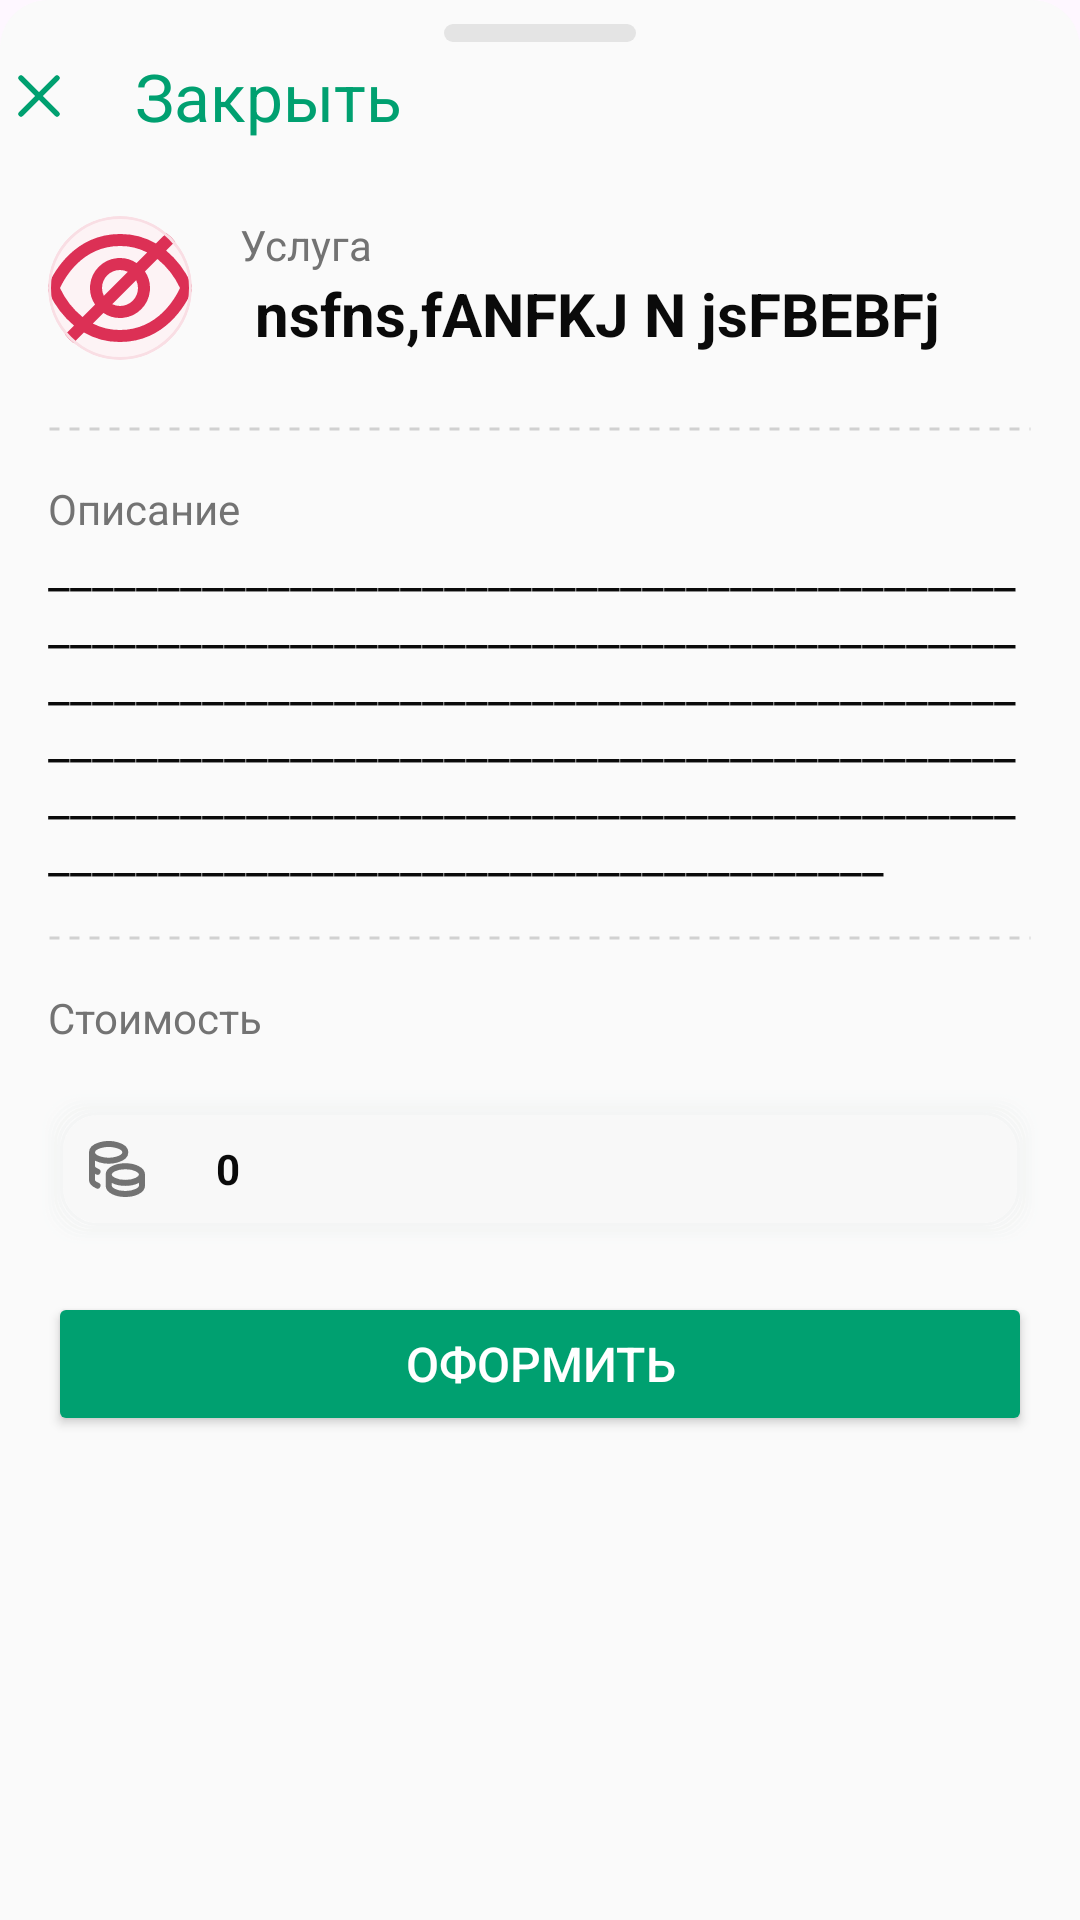

Screen size 1080px x 1920px. Icon name, then its center in pixels as (x,y):
auth input crossed eye: (120,288)
coins: (117,1169)
